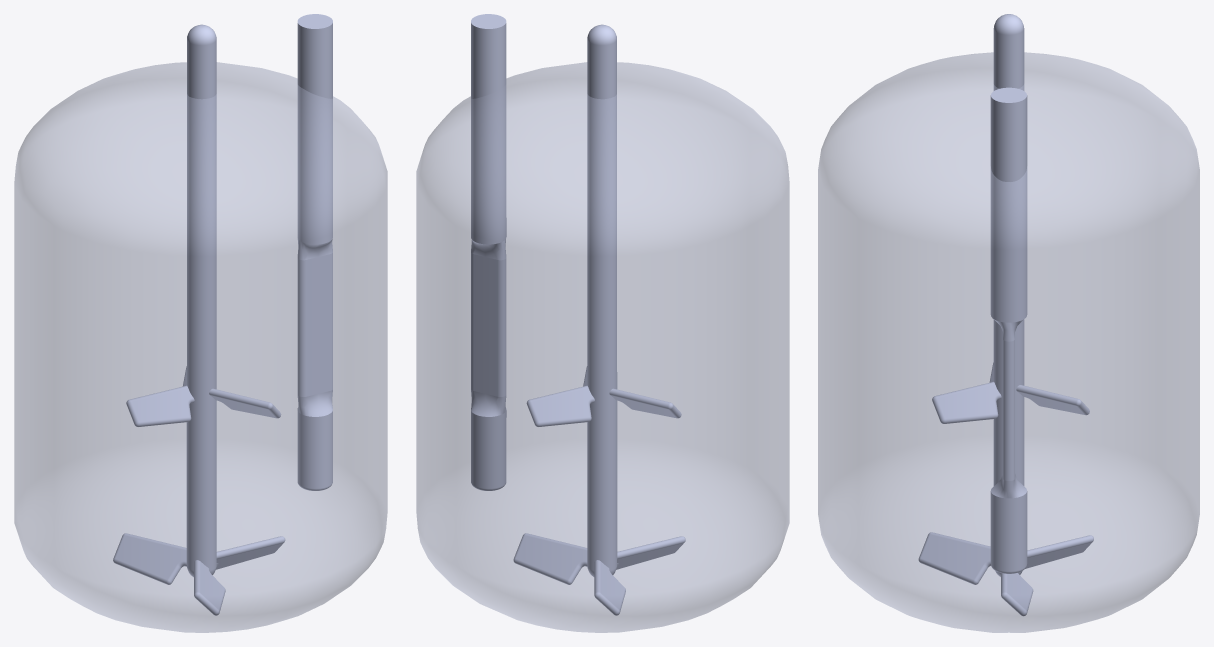
3 renders of one model, left to right at view 1: azimuth 30°, elevation 25°; view 2: azimuth 150°, elevation 25°; view 3: azimuth 270°, elevation 25°, orthographic.
Visible parts, largest first — view 1: R-101-tank.AP214, R-101-Imp.AP214, R-101-Baffle.AP214; view 2: R-101-tank.AP214, R-101-Imp.AP214, R-101-Baffle.AP214; view 3: R-101-tank.AP214, R-101-Baffle.AP214, R-101-Imp.AP214.
Part boxes in pixels (<box>): R-101-tank.AP214: <box>14,62,387,632</box>; R-101-Imp.AP214: <box>113,24,285,615</box>; R-101-Baffle.AP214: <box>297,14,332,490</box>; R-101-tank.AP214: <box>416,62,789,632</box>; R-101-Imp.AP214: <box>513,24,685,615</box>; R-101-Baffle.AP214: <box>471,14,506,490</box>; R-101-tank.AP214: <box>818,52,1199,632</box>; R-101-Baffle.AP214: <box>990,87,1027,573</box>; R-101-Imp.AP214: <box>918,14,1093,616</box>.
Size of the model in its own units: 0.8 by 1.36 by 0.8.
